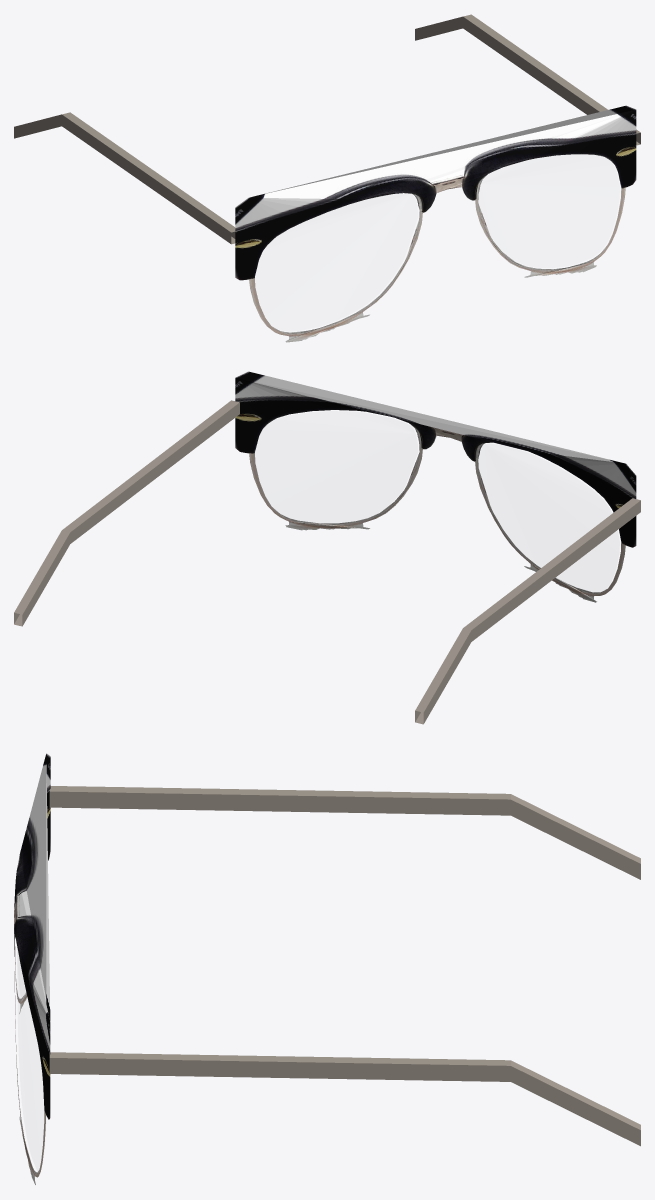
File: times-square-kingpin_gold-demi.glb
The picture shows the model from 3 angles, top to bottom: view 1: azimuth 30°, elevation 25°; view 2: azimuth 150°, elevation 25°; view 3: azimuth 270°, elevation 25°; orthographic projection. The views are drawn at different scales.
Parts seen in each view (by area): view 1: frame_front, temple_viewer_left, temple_viewer_right; view 2: frame_front, temple_viewer_left, temple_viewer_right; view 3: temple_viewer_right, temple_viewer_left, frame_front.
Part boxes in pixels (left/top/right/bottom): frame_front: left=235, top=105, right=636, bottom=342; temple_viewer_left: left=14, top=112, right=236, bottom=244; temple_viewer_right: left=415, top=14, right=640, bottom=145; frame_front: left=235, top=371, right=636, bottom=602; temple_viewer_left: left=415, top=498, right=640, bottom=724; temple_viewer_right: left=14, top=400, right=239, bottom=626; temple_viewer_right: left=49, top=1052, right=640, bottom=1146; temple_viewer_left: left=49, top=786, right=640, bottom=879; frame_front: left=14, top=753, right=50, bottom=1184.
Size of the model in its own units: 0.1447 by 0.051 by 0.141.
3 materials, 2 textured.
